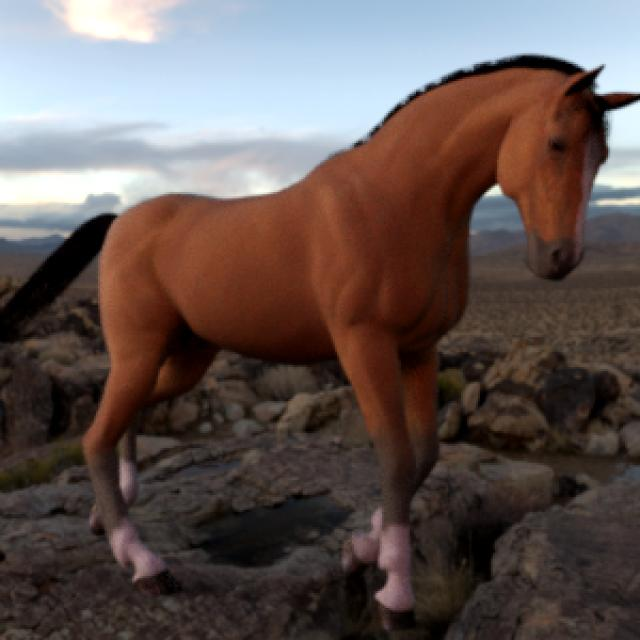horse: (0, 55, 640, 626)
